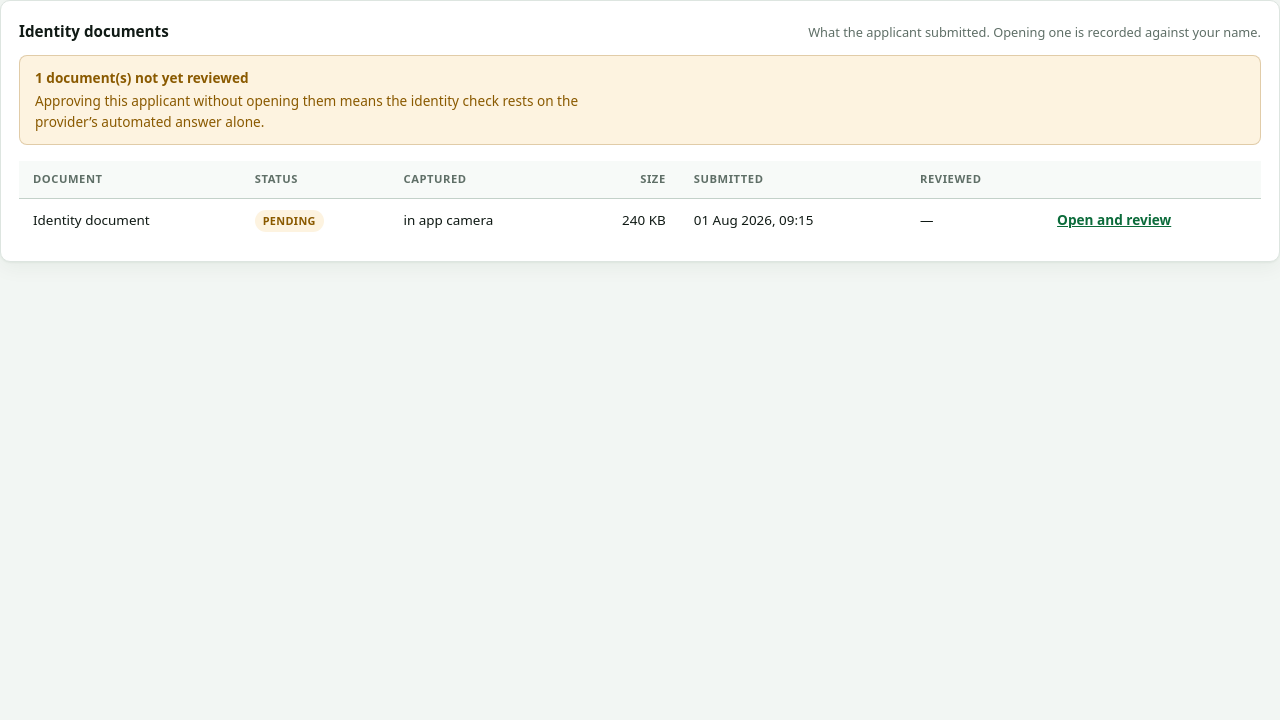
deciding on a document › will not accept or reject without a reason
The width and height of the screenshot is (1280, 720).
Click the button "Open and review" at (1114, 220), box left=1057, top=210, right=1171, bottom=230
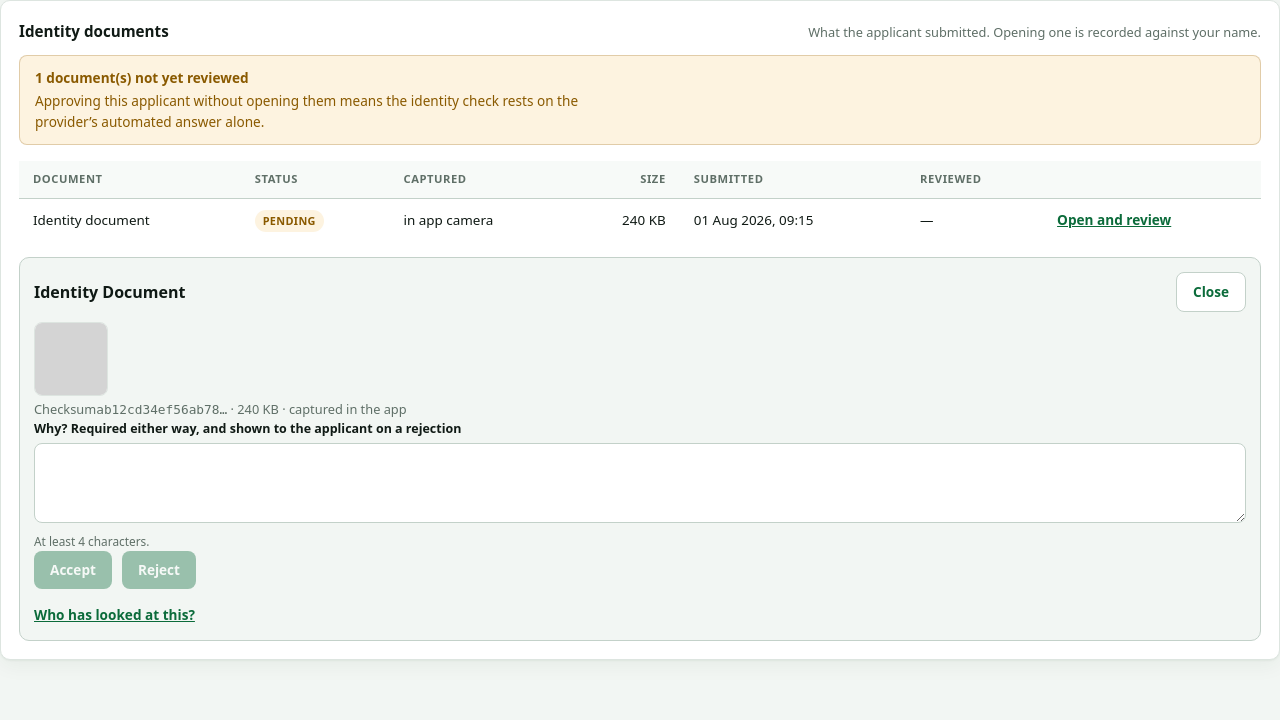
Expected: the button "Accept" is disabled, left=34, top=551, right=112, bottom=589
Expected: the button "Reject" is disabled, left=122, top=551, right=196, bottom=589
Type "ok" into the text box labelled "Why" at (640, 483), box left=34, top=443, right=1246, bottom=523
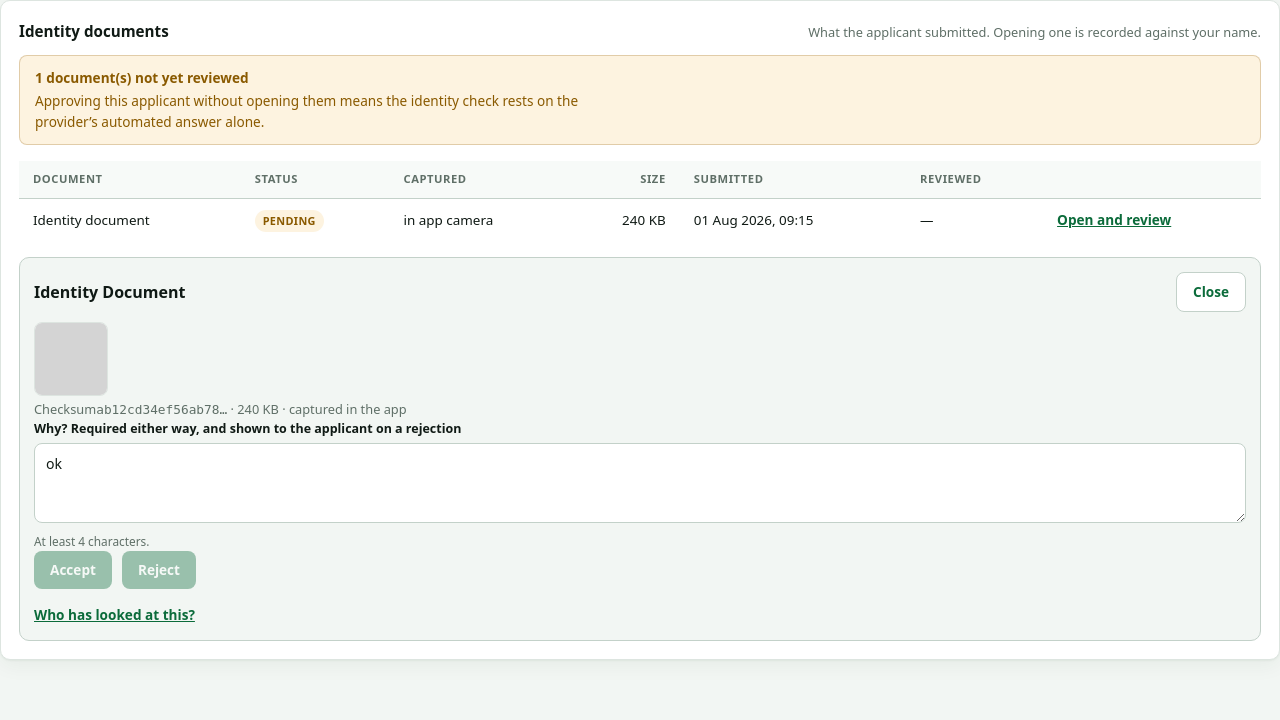
Expected: the button "Accept" is disabled, left=34, top=551, right=112, bottom=589
Replace the text in the text box labelled "Why" with "Matches the NIN slip and the selfie." at (640, 483), box left=34, top=443, right=1246, bottom=523
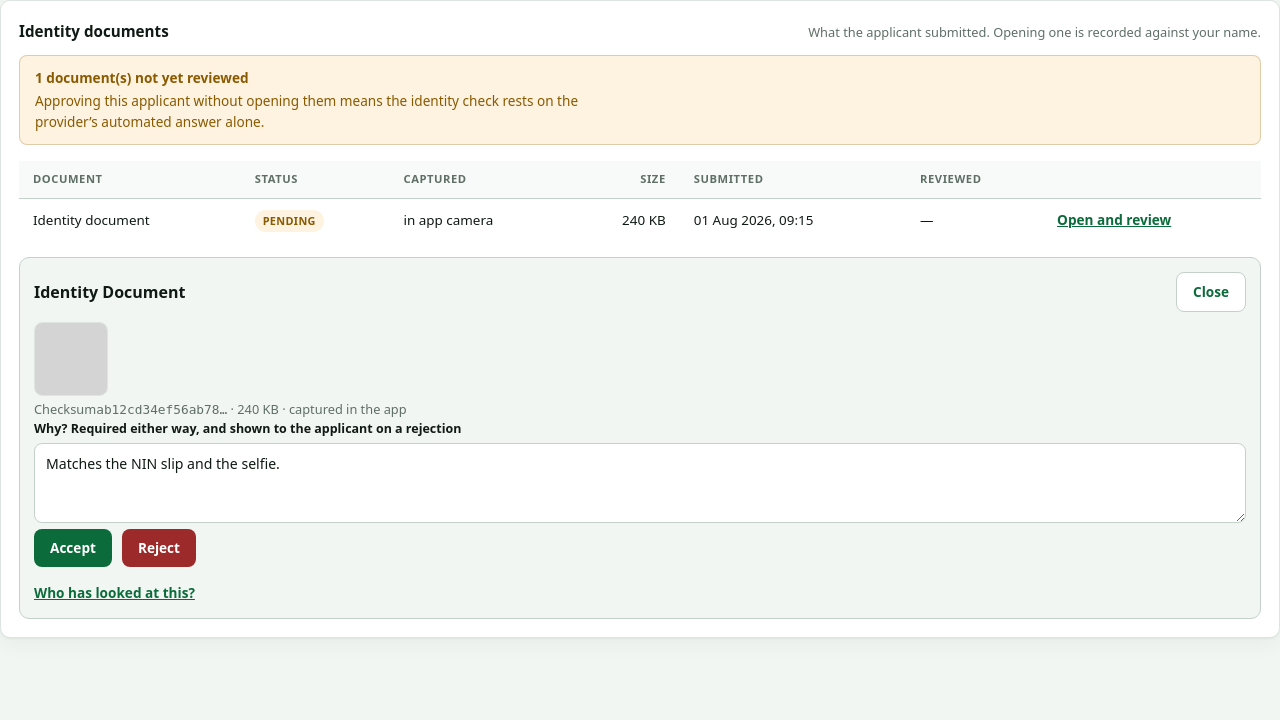
Expected: the button "Accept" is enabled, left=34, top=529, right=112, bottom=567
